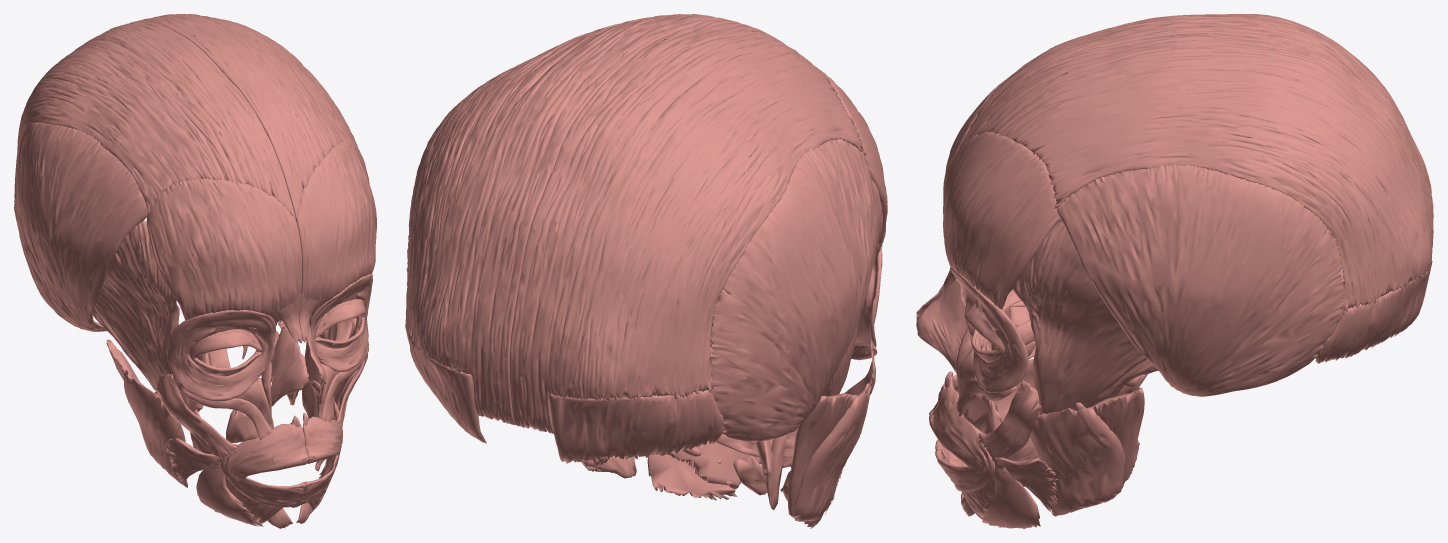
File: muscles.glb
3 views of the same model, side by side, from view 1: azimuth 30°, elevation 25°; view 2: azimuth 150°, elevation 25°; view 3: azimuth 270°, elevation 25° (orthographic). The views are drawn at different scales.
Visible parts, largest first — view 1: Epicranial aponeurosis.r.001, Temporoparietalis muscle.r.001, Frontalis muscle.r.001, Epicranial aponeurosis.l.001, Frontalis muscle.l.001, Temporalis muscle.r.001, Orbital part of orbicularis oculi.r.001, Orbicularis oris muscle.r.001, Superficial part of masseter.r.001, Orbital part of orbicularis oculi.l.001, Orbicularis oris muscle.l.001, Zygomaticus major muscle.r.001 (+16 smaller); view 2: Epicranial aponeurosis.r.001, Epicranial aponeurosis.l.001, Temporoparietalis muscle.r.001, Occipitalis muscle.r.001, Superficial part of masseter.r.001, Occipitalis muscle.l.001, Deep part of masseter.r.001, Depressor anguli oris.l.001, Depressor labii inferioris.l.001, Frontalis muscle.r.001, Medial pterygoid muscle.r.001, Orbital part of orbicularis oculi.r.001 (+3 smaller); view 3: Epicranial aponeurosis.l.001, Temporoparietalis muscle.l.001, Frontalis muscle.l.001, Temporalis muscle.l.001, Epicranial aponeurosis.r.001, Superficial part of masseter.l.001, Occipitalis muscle.l.001, Orbicularis oris muscle.l.001, Orbital part of orbicularis oculi.l.001, Nasalis muscle.l.001, Zygomaticus major muscle.l.001, Depressor anguli oris.l.001 (+7 smaller).
Part boxes in pixels (x1,y1,x2,y2): Epicranial aponeurosis.r.001: (14, 20, 295, 219); Temporoparietalis muscle.r.001: (15, 122, 148, 331); Frontalis muscle.r.001: (146, 178, 301, 322); Epicranial aponeurosis.l.001: (138, 14, 357, 219); Frontalis muscle.l.001: (296, 142, 376, 314); Temporalis muscle.r.001: (92, 220, 189, 407); Orbital part of orbicularis oculi.r.001: (167, 310, 275, 400); Orbicularis oris muscle.r.001: (220, 424, 308, 507); Superficial part of masseter.r.001: (124, 370, 187, 487); Orbital part of orbicularis oculi.l.001: (309, 274, 372, 371); Orbicularis oris muscle.l.001: (295, 416, 342, 507); Zygomaticus major muscle.r.001: (156, 374, 238, 463); Epicranial aponeurosis.r.001: (509, 19, 866, 433); Epicranial aponeurosis.l.001: (405, 14, 726, 424); Temporoparietalis muscle.r.001: (710, 138, 878, 441); Occipitalis muscle.r.001: (549, 390, 723, 463); Superficial part of masseter.r.001: (791, 383, 871, 521); Occipitalis muscle.l.001: (405, 319, 486, 443); Deep part of masseter.r.001: (787, 393, 857, 521); Depressor anguli oris.l.001: (647, 453, 737, 500); Depressor labii inferioris.l.001: (670, 440, 760, 489); Frontalis muscle.r.001: (820, 70, 887, 253); Medial pterygoid muscle.r.001: (754, 434, 787, 510); Orbital part of orbicularis oculi.r.001: (854, 244, 882, 347); Epicranial aponeurosis.l.001: (959, 33, 1433, 311); Temporoparietalis muscle.l.001: (1057, 164, 1344, 396); Frontalis muscle.l.001: (943, 131, 1060, 309); Temporalis muscle.l.001: (1012, 221, 1158, 414); Epicranial aponeurosis.r.001: (959, 14, 1433, 220); Superficial part of masseter.l.001: (1030, 402, 1125, 516); Occipitalis muscle.l.001: (1315, 259, 1432, 363); Orbicularis oris muscle.l.001: (929, 386, 994, 492); Orbital part of orbicularis oculi.l.001: (949, 267, 1028, 392); Nasalis muscle.l.001: (916, 278, 967, 373); Zygomaticus major muscle.l.001: (977, 380, 1041, 464); Depressor anguli oris.l.001: (980, 464, 1040, 528).
Bounding box in the file's own units: 0.1608 × 0.2096 × 0.2053.
